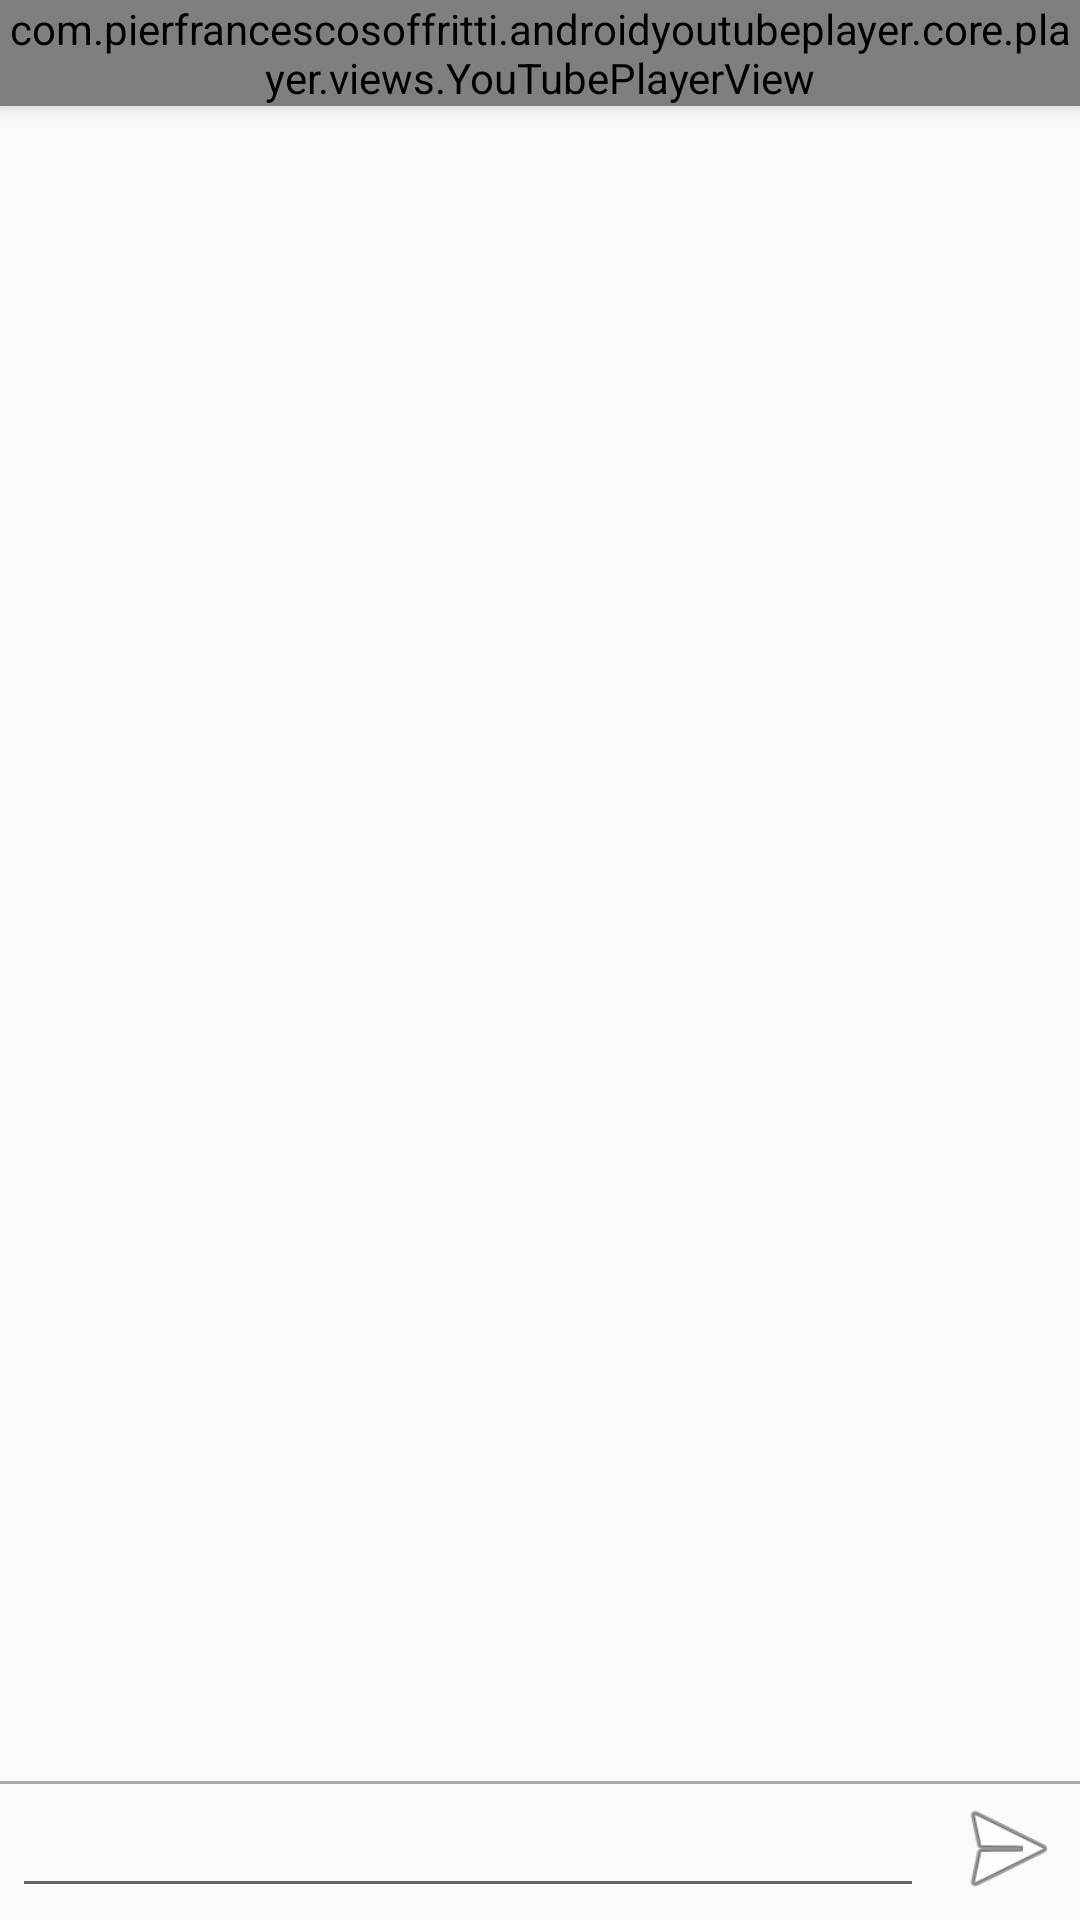

Where to tap for icons on this 1080px x 1920px app screen, as point (x, y):
Küldés: point (1009, 1849)
